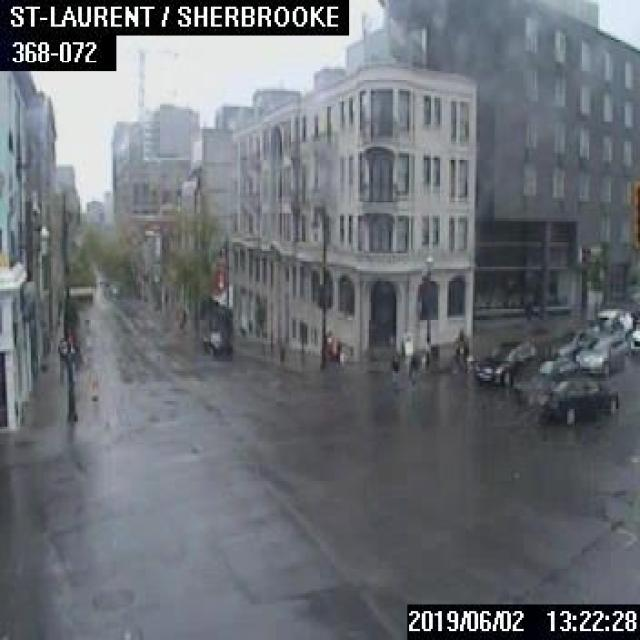cyclist: (448, 327, 473, 371)
pedestrian: (389, 352, 399, 383), (331, 337, 338, 364)
vehicle: (533, 374, 617, 424), (474, 339, 536, 383), (575, 334, 626, 370), (548, 327, 595, 356), (204, 329, 231, 354), (628, 312, 638, 353)
